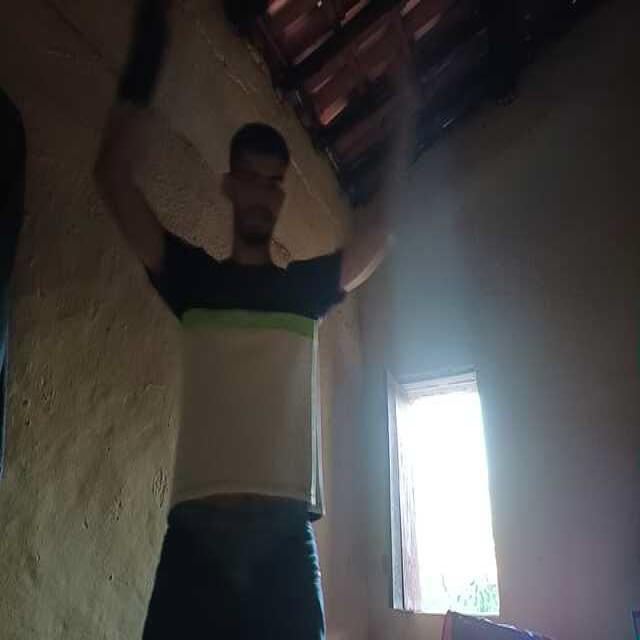colete: (437, 597, 557, 640)
pessoa: (133, 57, 368, 640)
